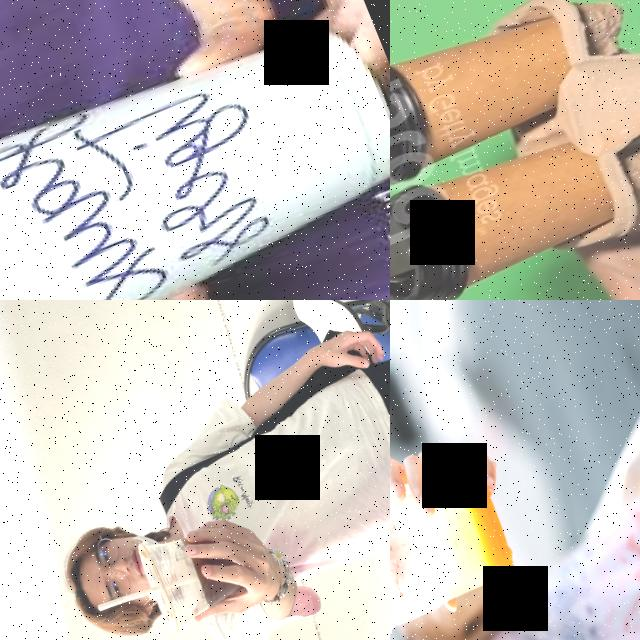cup: (0, 0, 390, 300), (390, 115, 625, 300), (390, 0, 592, 205), (390, 436, 526, 638), (130, 510, 252, 637)
